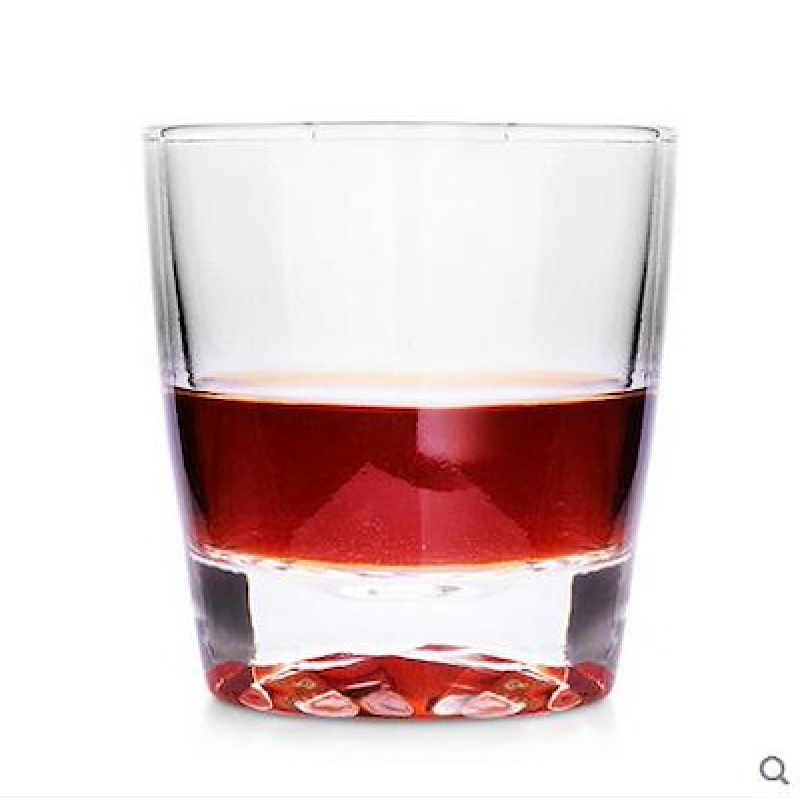whiskey: (131, 115, 664, 708)
